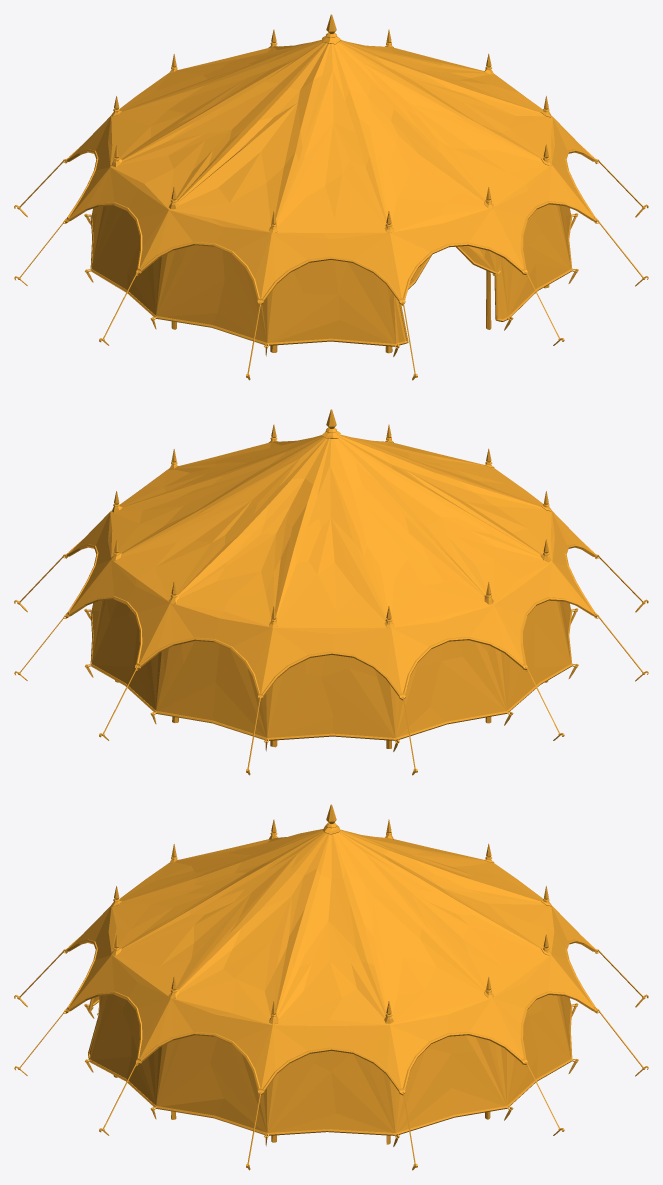
The model's file is SM_Tent_Dodecagon_Striped_Fantasy.fbx.
3 views of the same model, one above another, from view 1: azimuth 30°, elevation 25°; view 2: azimuth 150°, elevation 25°; view 3: azimuth 270°, elevation 25° (orthographic).
Parts seen in each view (by area): view 1: tent-dodecagon-striped-fantasy; view 2: tent-dodecagon-striped-fantasy; view 3: tent-dodecagon-striped-fantasy.
Part boxes in pixels (left/top/right/bottom): tent-dodecagon-striped-fantasy: left=14, top=14, right=648, bottom=380; tent-dodecagon-striped-fantasy: left=14, top=409, right=648, bottom=775; tent-dodecagon-striped-fantasy: left=14, top=804, right=648, bottom=1170.
Size of the model in its own units: 13.89 by 6 by 13.89.
